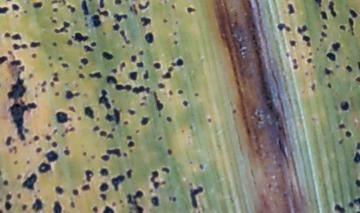tarspot: (8, 100, 37, 141), (7, 78, 26, 100), (191, 187, 204, 210), (98, 89, 112, 110), (22, 174, 37, 191), (112, 175, 125, 192), (153, 91, 163, 112), (53, 22, 70, 33), (73, 32, 89, 43), (65, 88, 80, 99), (151, 171, 160, 189), (85, 105, 95, 121), (328, 1, 337, 18), (277, 23, 292, 33), (33, 198, 43, 213), (46, 151, 58, 163), (56, 111, 68, 123), (105, 150, 122, 158), (120, 29, 129, 44), (39, 162, 51, 173), (96, 8, 109, 18), (333, 203, 346, 213), (81, 1, 89, 17), (113, 108, 121, 124), (114, 14, 128, 23), (139, 16, 151, 26), (339, 100, 349, 112), (92, 16, 101, 29), (85, 169, 94, 182), (115, 84, 131, 91), (144, 32, 154, 43), (297, 24, 308, 34), (99, 181, 109, 192), (100, 168, 109, 180), (302, 35, 311, 47), (103, 51, 113, 61), (331, 42, 341, 52), (106, 76, 117, 85), (10, 59, 22, 67), (349, 17, 354, 36), (132, 86, 145, 93), (287, 2, 294, 15), (67, 4, 76, 14), (79, 57, 89, 66), (319, 11, 328, 21), (349, 8, 358, 18), (326, 53, 336, 62), (133, 191, 143, 200), (54, 186, 64, 195), (138, 2, 149, 10), (151, 196, 159, 207), (89, 72, 101, 79), (142, 69, 149, 81), (353, 152, 360, 164), (127, 193, 133, 207), (54, 201, 61, 213), (128, 72, 137, 81), (1, 5, 9, 15), (33, 1, 43, 9), (12, 33, 22, 41), (84, 45, 94, 53), (1, 55, 8, 66), (30, 41, 41, 48), (152, 61, 161, 69), (105, 114, 114, 122), (127, 108, 136, 116), (324, 67, 333, 75), (161, 166, 170, 174), (100, 193, 108, 202), (4, 201, 12, 210), (52, 1, 66, 6), (100, 155, 110, 162), (132, 3, 138, 14), (354, 178, 360, 189), (103, 207, 114, 213), (176, 58, 184, 66), (289, 39, 297, 47), (339, 24, 347, 32), (135, 205, 143, 213), (12, 2, 19, 11), (13, 42, 20, 51), (186, 7, 195, 14), (136, 61, 145, 68), (162, 72, 171, 79), (142, 117, 149, 126), (314, 1, 323, 8), (345, 65, 352, 74), (69, 104, 75, 114), (5, 137, 12, 145), (44, 135, 52, 142), (51, 141, 58, 149), (63, 149, 71, 156), (3, 32, 11, 39), (113, 23, 120, 31), (107, 132, 114, 140), (158, 83, 166, 90), (165, 115, 173, 122), (127, 141, 135, 148), (320, 31, 328, 38), (345, 130, 352, 138), (82, 183, 90, 190), (120, 61, 125, 72), (127, 168, 132, 179), (28, 71, 34, 80), (41, 79, 47, 88), (311, 82, 316, 92), (35, 147, 42, 154), (100, 130, 107, 137), (130, 55, 137, 62), (72, 189, 79, 196), (15, 173, 22, 180), (5, 193, 12, 200), (20, 43, 28, 49), (61, 63, 69, 69), (67, 39, 73, 47), (182, 99, 188, 107), (167, 148, 173, 156), (198, 163, 204, 171), (338, 123, 346, 129), (99, 1, 105, 8), (90, 154, 96, 161), (93, 126, 100, 132), (138, 50, 145, 56), (177, 89, 184, 95), (126, 134, 132, 141), (231, 108, 237, 115), (292, 64, 298, 71), (321, 24, 328, 30), (2, 180, 9, 186), (188, 124, 194, 131), (67, 115, 73, 122), (34, 134, 39, 142), (78, 74, 86, 79), (114, 1, 122, 6), (146, 86, 151, 94), (70, 200, 75, 208), (24, 128, 30, 134), (49, 81, 55, 87), (52, 41, 58, 47), (69, 126, 75, 132), (64, 128, 70, 134), (306, 58, 312, 64), (315, 46, 321, 52), (354, 199, 360, 205), (348, 202, 354, 208), (171, 196, 177, 202), (111, 201, 117, 207), (52, 128, 57, 135), (91, 41, 96, 48), (83, 150, 88, 157), (141, 95, 148, 100), (292, 57, 297, 64), (355, 142, 360, 149), (93, 206, 98, 213), (17, 192, 21, 200), (8, 50, 13, 56), (31, 53, 36, 59), (47, 55, 52, 61), (53, 77, 59, 82), (53, 72, 59, 77), (58, 56, 63, 62), (52, 8, 58, 13), (78, 65, 83, 71), (171, 4, 176, 10), (173, 31, 178, 37), (112, 69, 118, 74), (171, 62, 177, 67), (194, 91, 199, 97), (207, 117, 212, 123), (158, 135, 163, 141), (72, 20, 78, 25), (327, 83, 332, 89), (312, 64, 317, 70), (335, 64, 341, 69), (339, 139, 344, 145), (22, 204, 27, 210), (14, 147, 18, 154), (96, 115, 100, 122), (162, 179, 166, 186), (357, 61, 360, 70), (26, 160, 31, 165), (47, 123, 52, 128), (55, 92, 60, 97), (23, 9, 28, 14), (168, 67, 173, 72), (135, 129, 140, 134), (285, 52, 290, 57), (319, 38, 324, 43), (119, 199, 124, 204), (21, 66, 25, 72), (14, 160, 18, 166), (9, 148, 13, 154), (49, 62, 53, 68), (78, 115, 82, 121), (174, 40, 178, 46), (170, 90, 174, 96), (139, 102, 145, 106), (123, 121, 129, 125), (110, 127, 116, 131), (158, 112, 162, 118), (102, 31, 106, 37), (356, 76, 360, 82), (41, 89, 46, 93), (29, 140, 33, 145), (34, 95, 39, 99), (52, 19, 57, 23), (84, 17, 88, 22), (61, 133, 65, 138), (129, 7, 133, 12), (163, 19, 168, 23), (122, 44, 126, 49), (175, 20, 179, 25), (300, 55, 305, 59), (23, 142, 27, 146), (34, 86, 38, 90), (15, 14, 19, 18), (309, 52, 313, 56), (134, 201, 138, 205), (112, 100, 116, 104), (85, 23, 88, 27), (124, 153, 127, 157), (305, 73, 309, 76), (1, 210, 4, 213), (356, 211, 360, 213)
